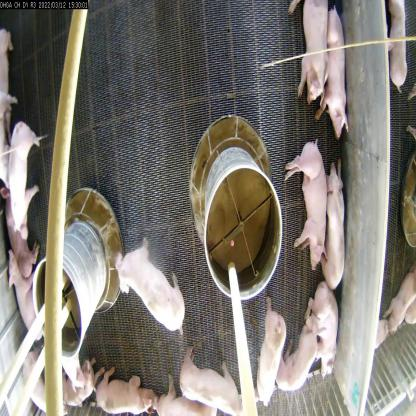Pig: (116, 228, 193, 339), (287, 120, 333, 277), (173, 334, 246, 416), (315, 6, 357, 148), (6, 115, 43, 242), (5, 244, 48, 350), (321, 154, 351, 293), (258, 288, 290, 416), (307, 273, 339, 388), (95, 364, 160, 416), (383, 0, 413, 92)
